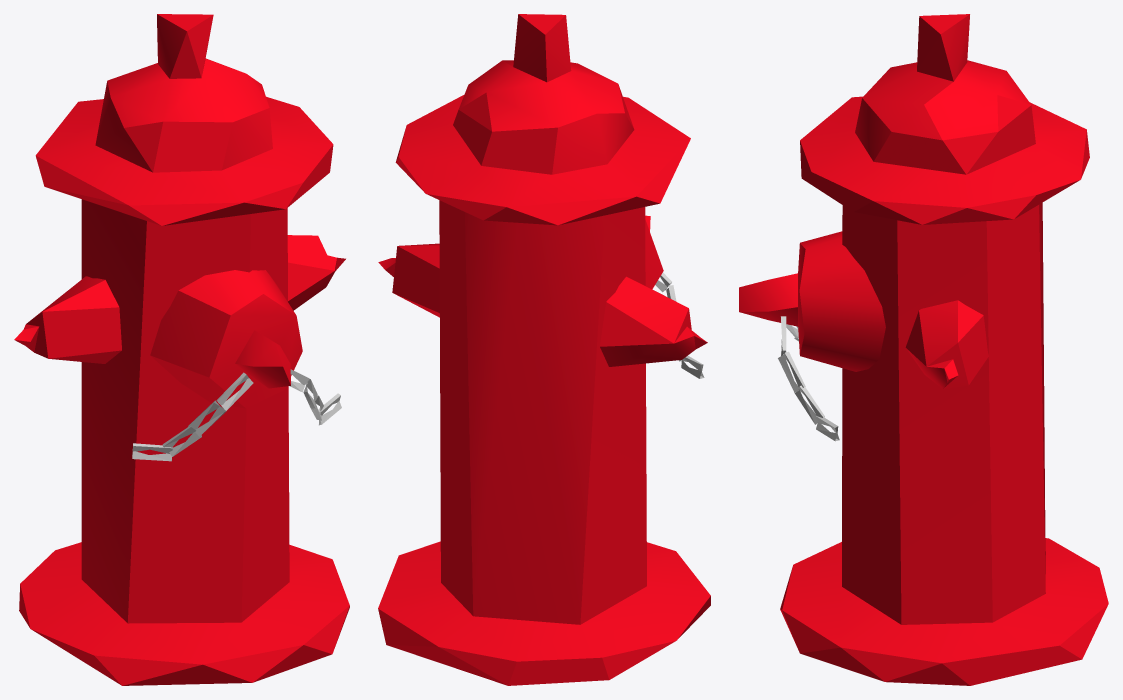
File: HidranteLOD2.fbx
3 views of the same model, side by side, from view 1: azimuth 30°, elevation 25°; view 2: azimuth 150°, elevation 25°; view 3: azimuth 270°, elevation 25° (orthographic).
Visible parts, largest first — view 1: HidranteLOD2; view 2: HidranteLOD2; view 3: HidranteLOD2.
Part boxes in pixels (x1=…): HidranteLOD2: x1=14, y1=14, x2=349, y2=685; HidranteLOD2: x1=378, y1=14, x2=710, y2=685; HidranteLOD2: x1=739, y1=14, x2=1108, y2=685.
Bounding box in the file's own units: 34.23 × 59.03 × 33.17.
